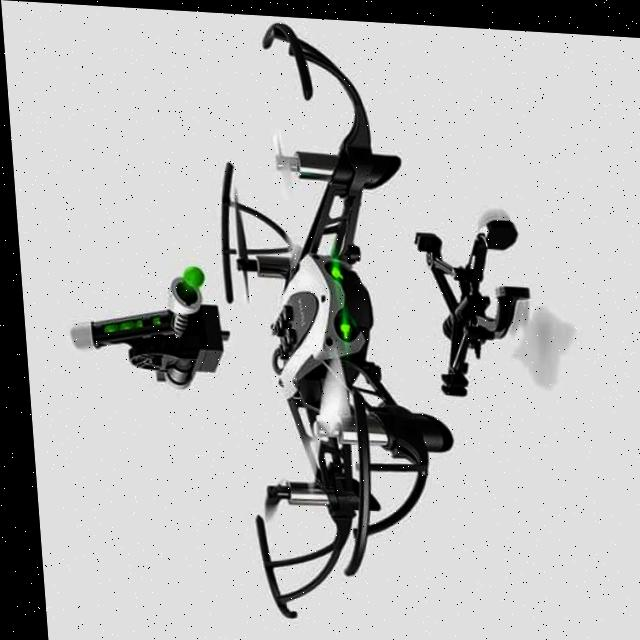drone: (207, 11, 435, 637)
